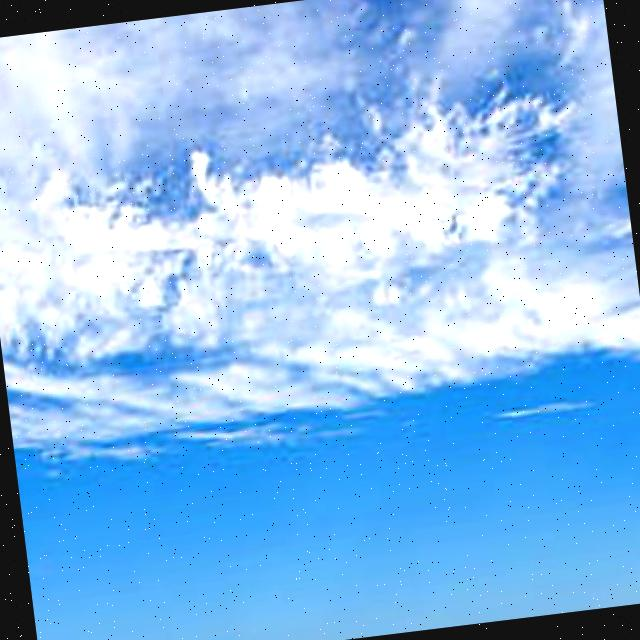Ci: (1, 1, 640, 477)
